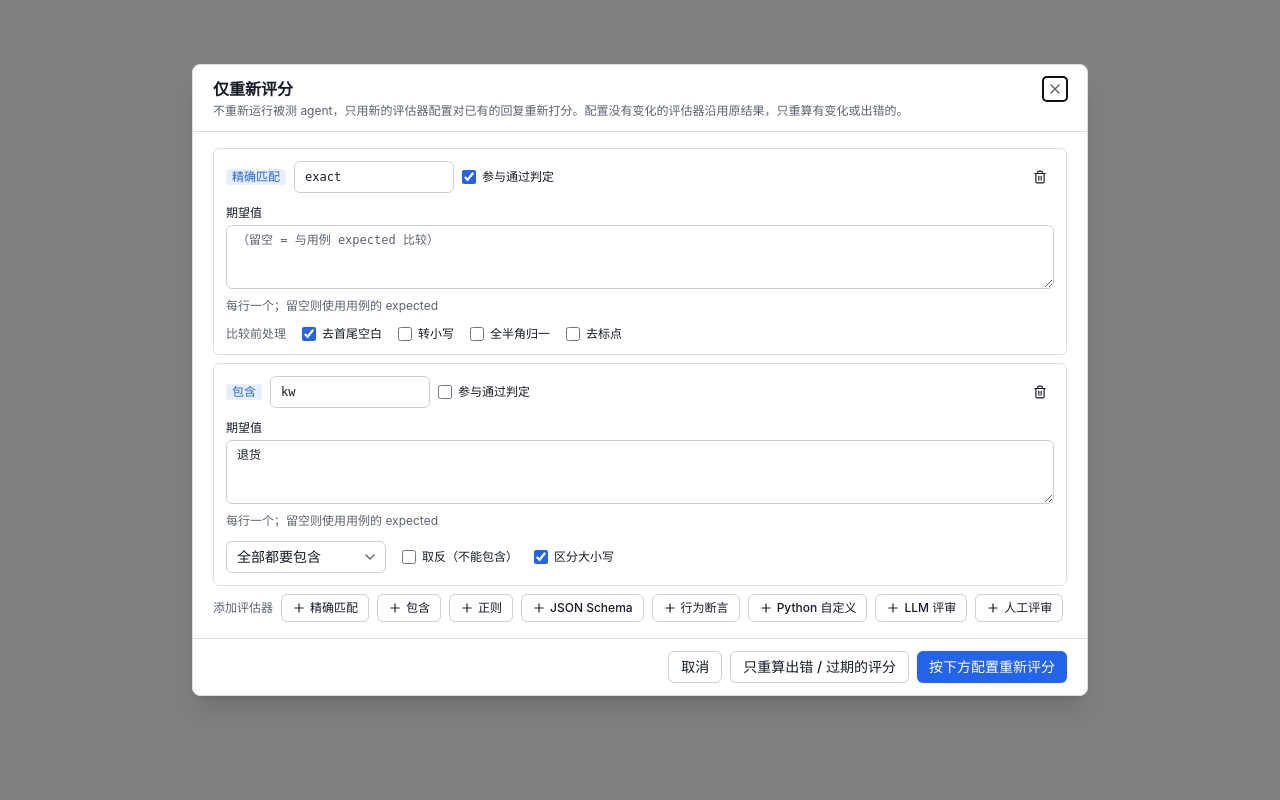
Test: RescoreDialog › 后端拒绝（例如评测还在运行）时显示错误并保留对话框
Step 1. Click the button with test id "submit-rescore" → (992, 667), box [917,651,1067,683]
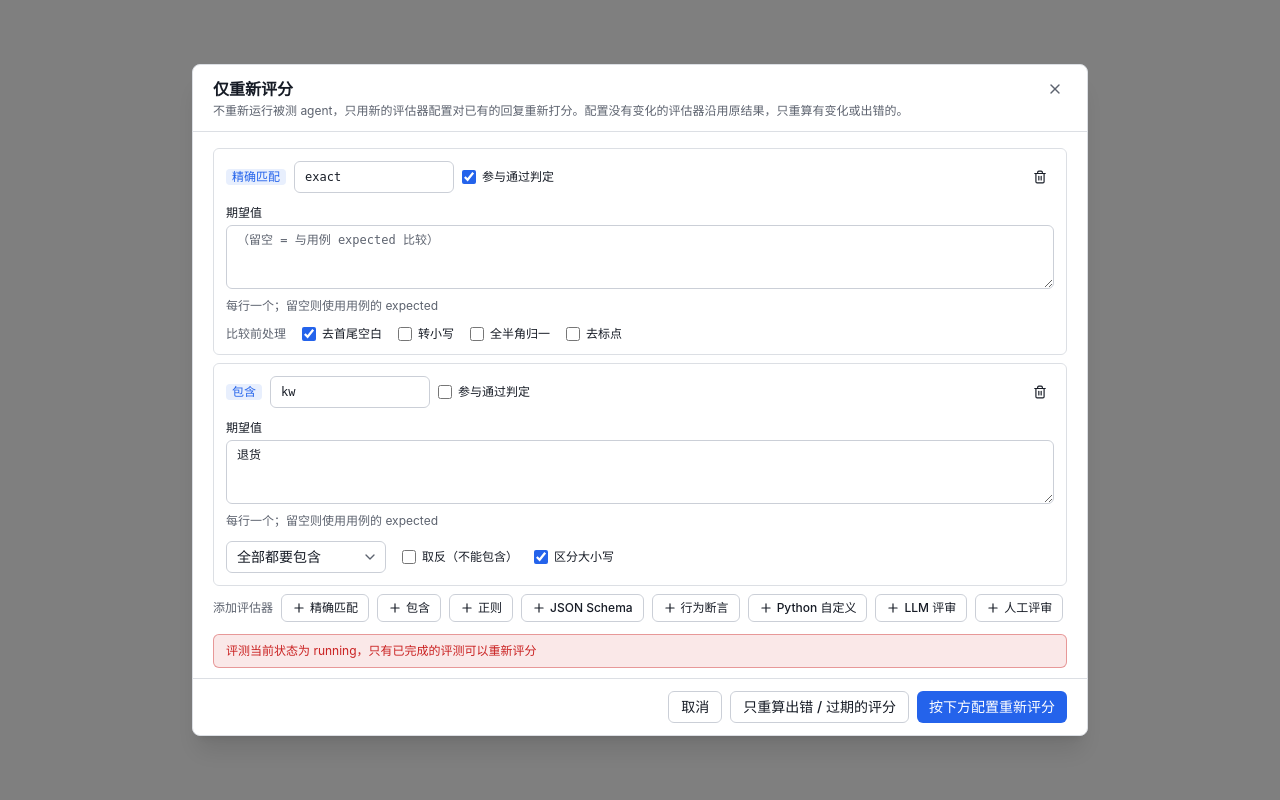
Check: the message shows "只有已完成的评测可以重新评分", box [226,643,536,658]
